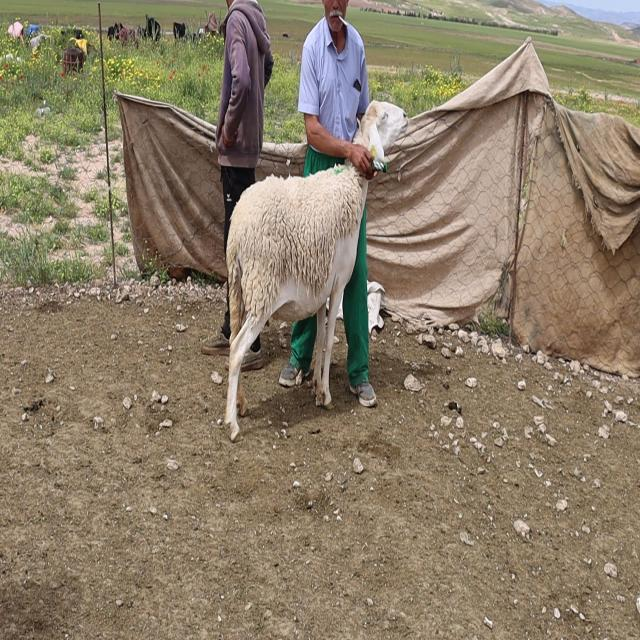Score_4: (224, 164, 368, 441)
